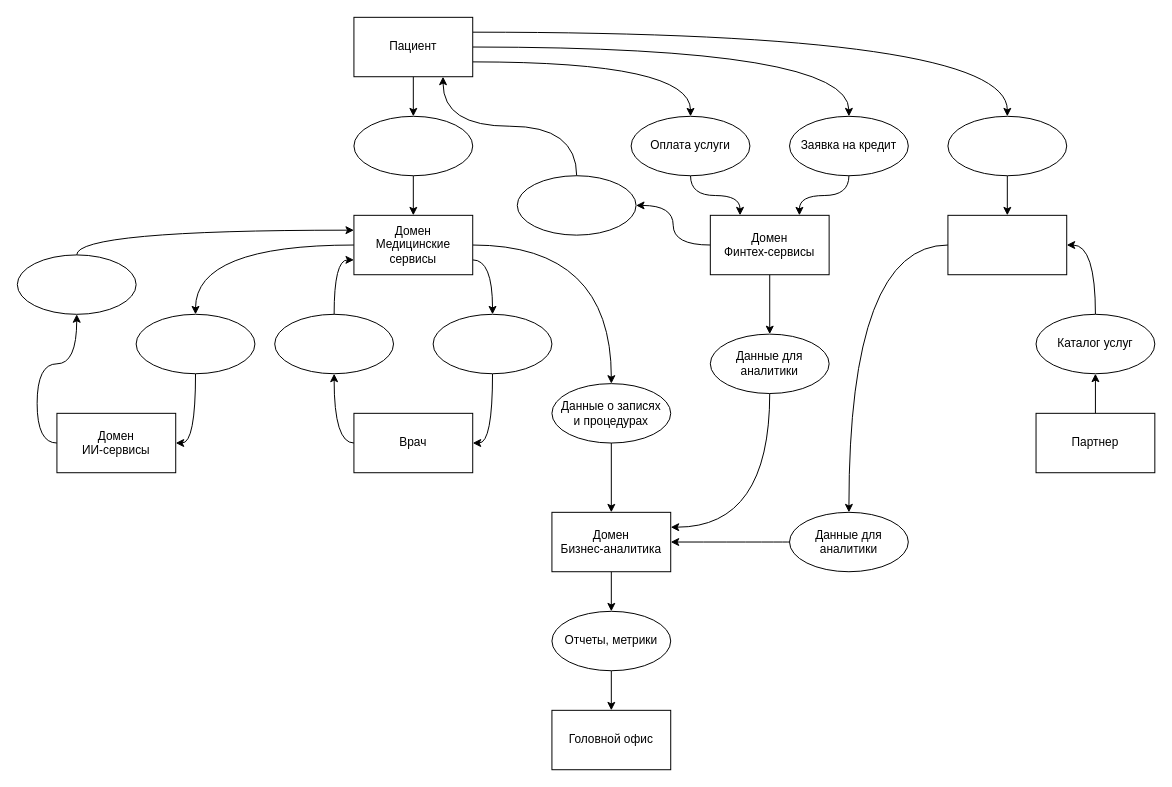
The diagram is 1172 pixels wide and 787 high, and some of its shapes have lost their labels. The shapes that lost their labels are listed below. From the top down, each one's centre as x and y in pixels, then its label:
At pixel 413 145: "Персональные данные".
At pixel 1007 145: "Заявка на лекарство, оборудование".
At pixel 576 205: "Решение по кредиту".
At pixel 1007 244: "Домен Партнерские системы".
At pixel 76 284: "Проанализи-рованные симптомы и снимки".
At pixel 195 343: "Обезличенные медицинские данные".
At pixel 334 343: "Анамнез, диагноз, лечение".
At pixel 492 343: "Мед. карта пациента".
